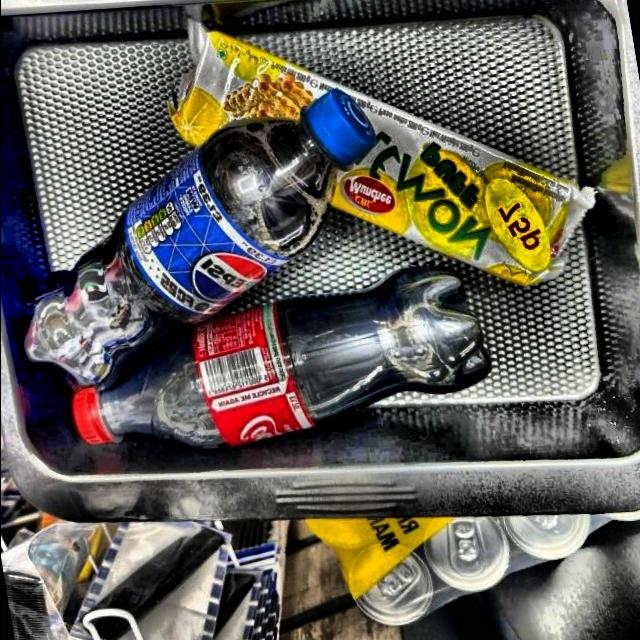coke-bottle: (70, 282, 506, 444)
lemon puff: (189, 27, 597, 284)
pepsi-bottle: (21, 94, 368, 381)
